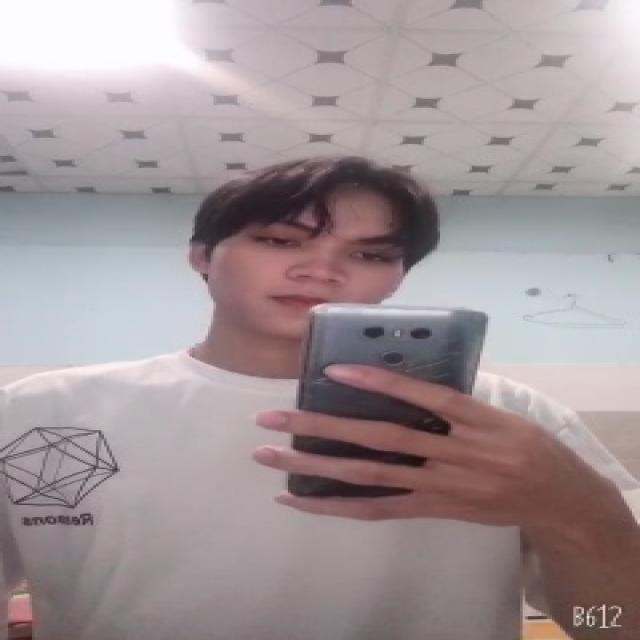Phone: (286, 302, 491, 512)
